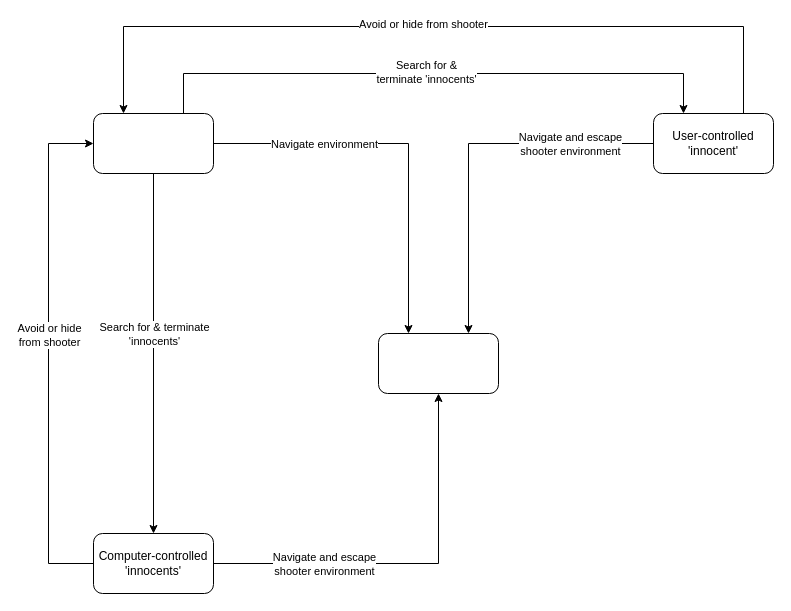
Some shapes in this 791 by 611 pixel diagram are drawn without their labels. The box of each missing label's shape, as (x1, y1, x2, y2) in pixels:
Active Shooter Environment: (378, 332, 498, 394)
Computer-controlled Shooter: (92, 112, 214, 174)
